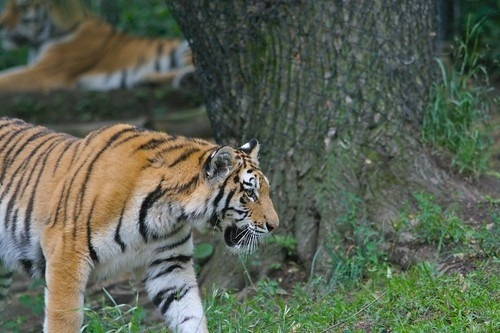tigre: (1, 116, 281, 331)
